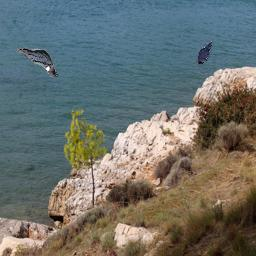Crow: (18, 47, 59, 77), (196, 42, 212, 65)
